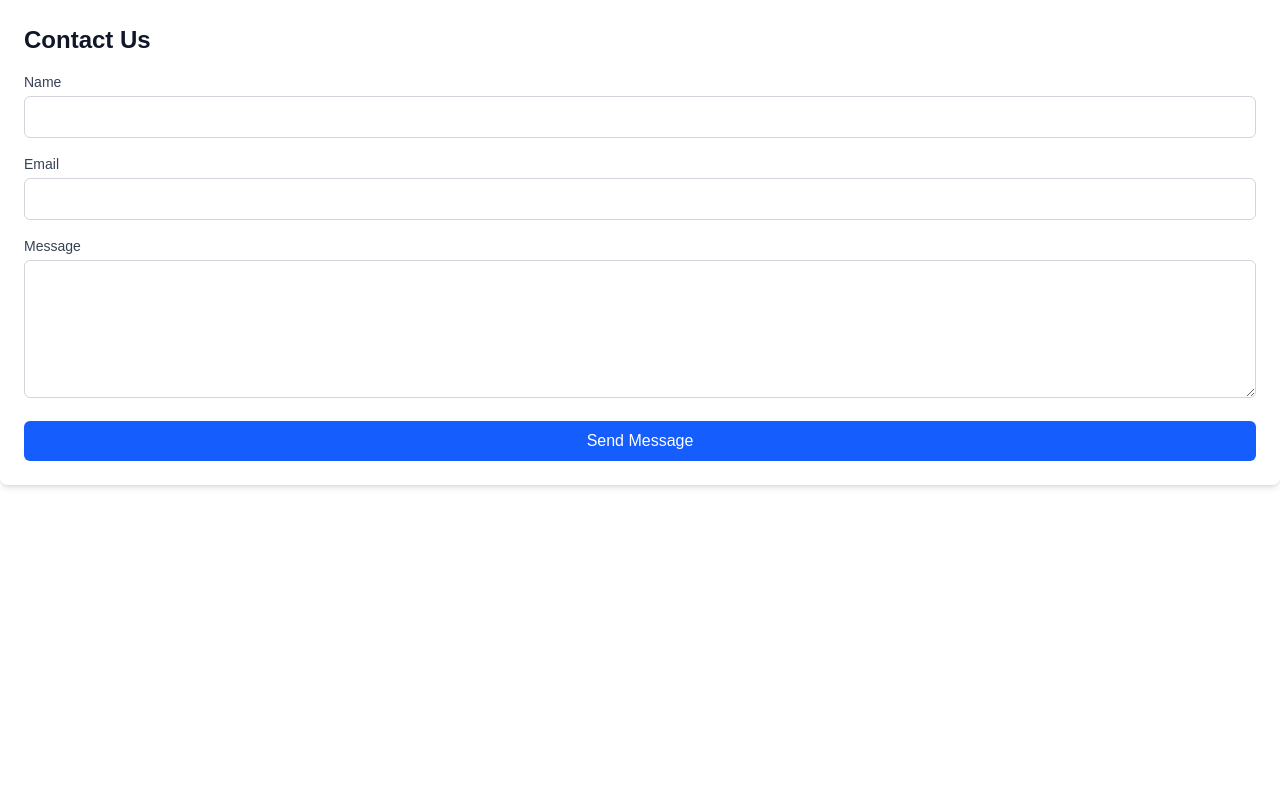
Test: ContactForm › clears field error when user types
Click the button "Send Message".
click(640, 441)  # box [24,421,1256,461]
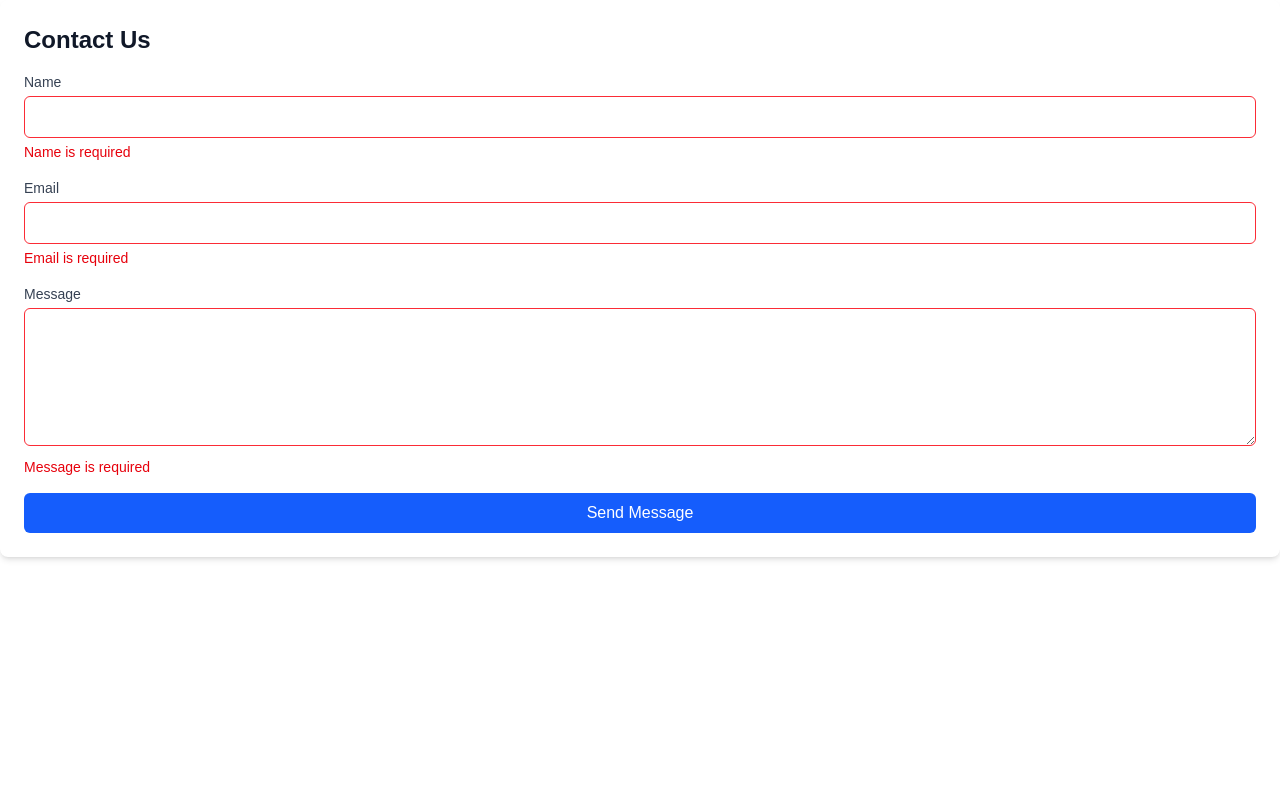
Expected: the text "Name is required" is shown, [24,144,131,160]
Type "John" into the field labelled "Name".
click(640, 117); type("John")  # box [24,96,1256,138]
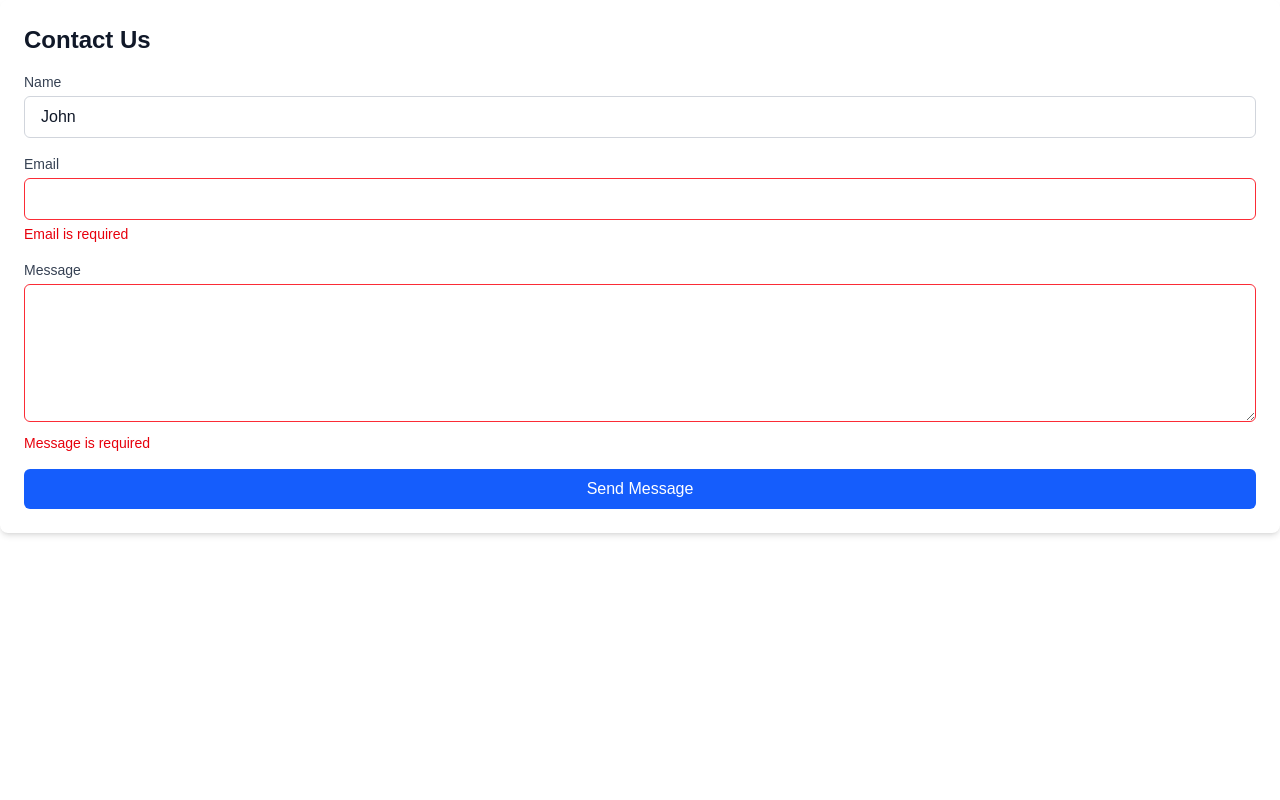
Expected: the text "Name is required" is gone
